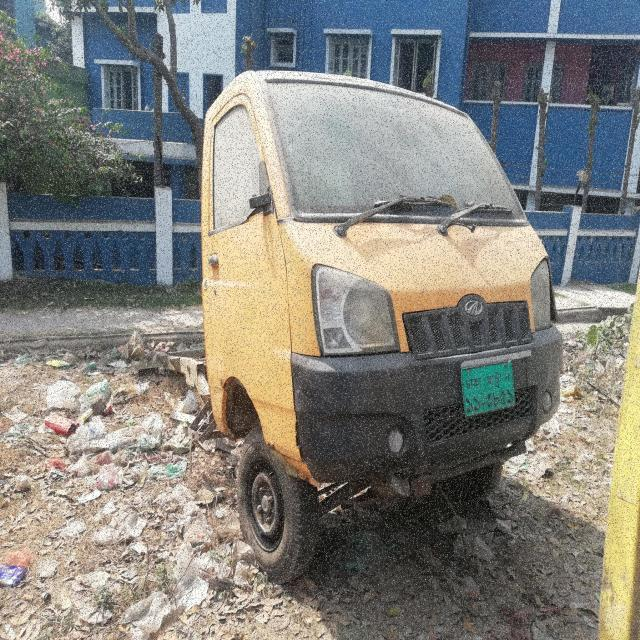numberplate: (459, 359, 517, 419)
